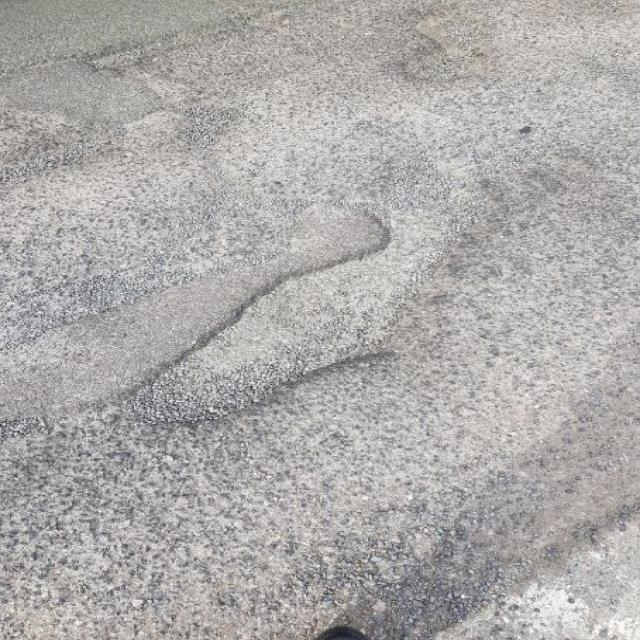pothole: (103, 202, 458, 430)
